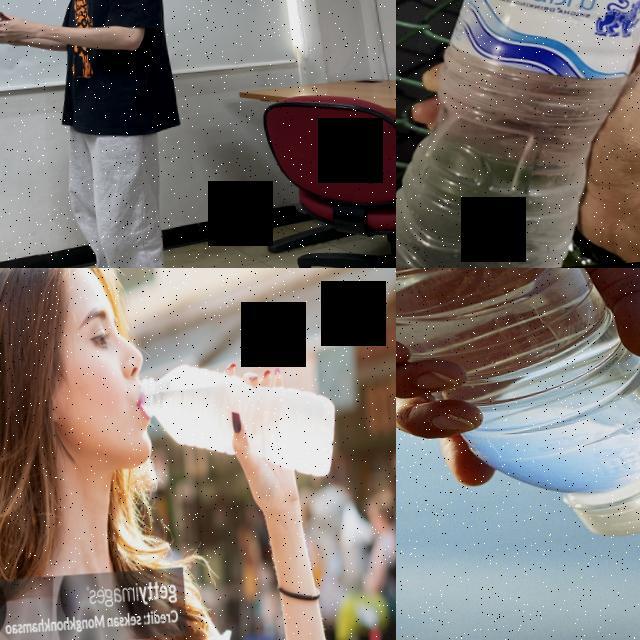bottle: (396, 268, 640, 558), (396, 0, 640, 268), (134, 356, 340, 492)
